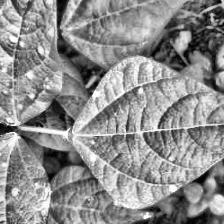Bean Rust: (69, 54, 224, 208), (57, 0, 193, 67), (0, 0, 58, 125), (36, 167, 153, 224), (0, 129, 49, 224)
